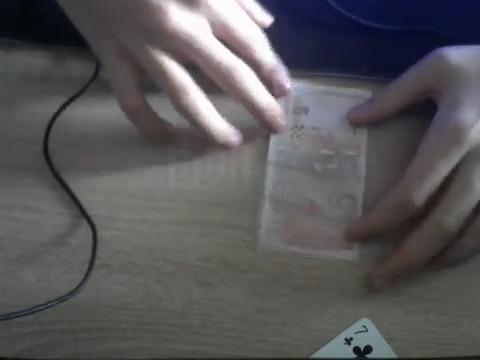5leva: (257, 73, 409, 274)
